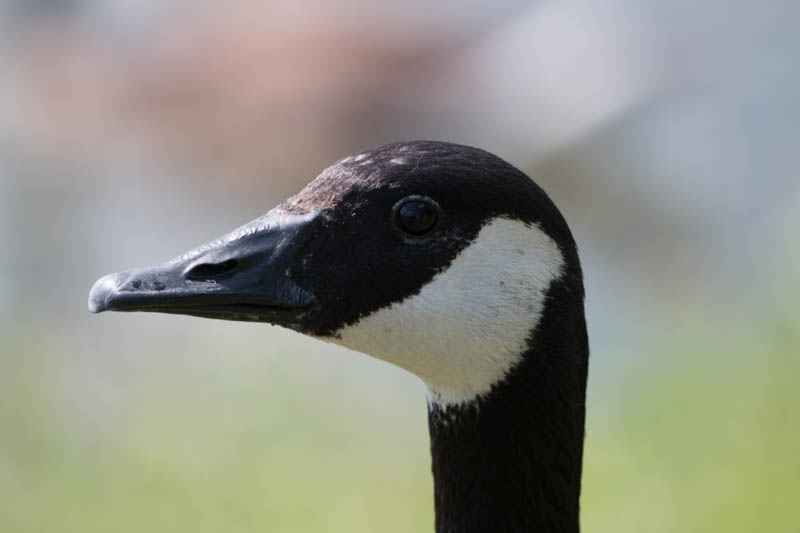goose-head: (86, 141, 590, 407)
